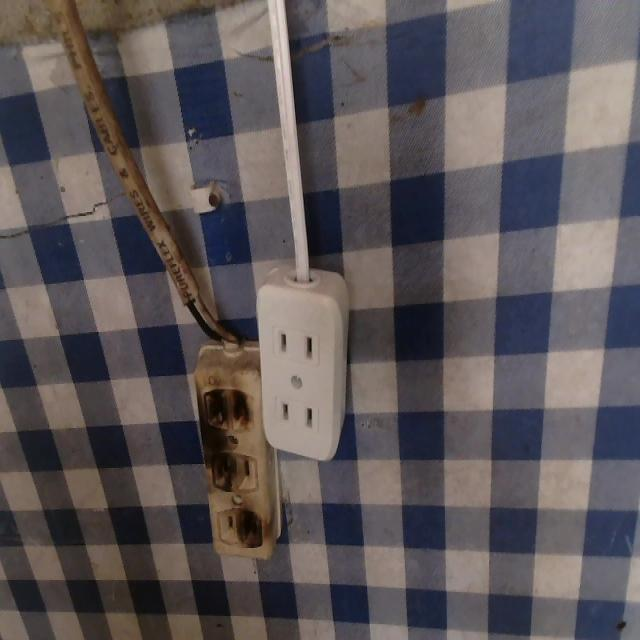-: (191, 380, 261, 432), (201, 446, 239, 502), (233, 506, 267, 550)
